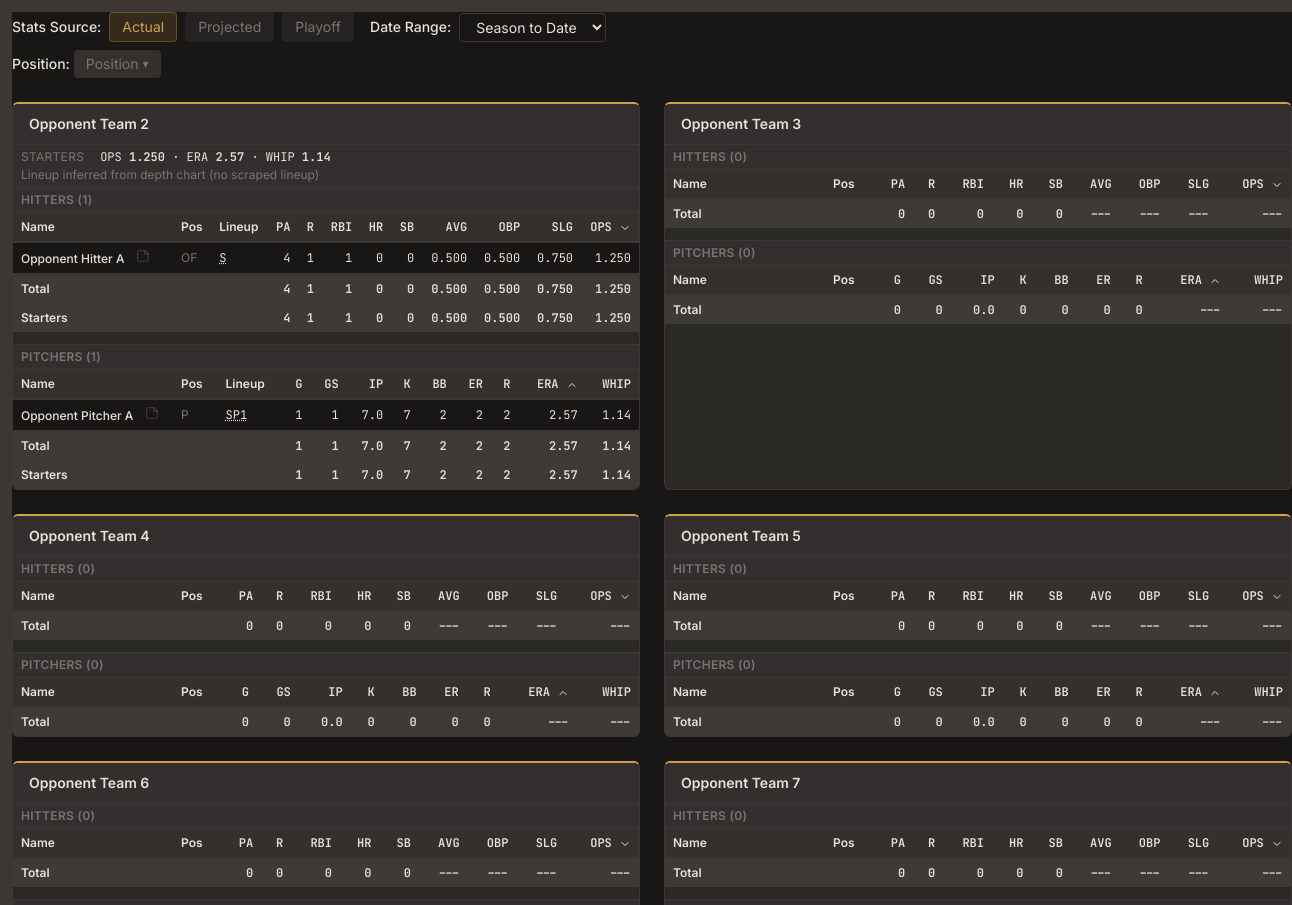
Test: OpponentsGrid › hides date range and shows projection source dropdown when Projected is selected
The image size is (1292, 905).
Check: the dropdown showing "Season to Date" is shown, box [459,12,606,42]
Click the button "Projected" at (230, 27), box [185,12,274,42]
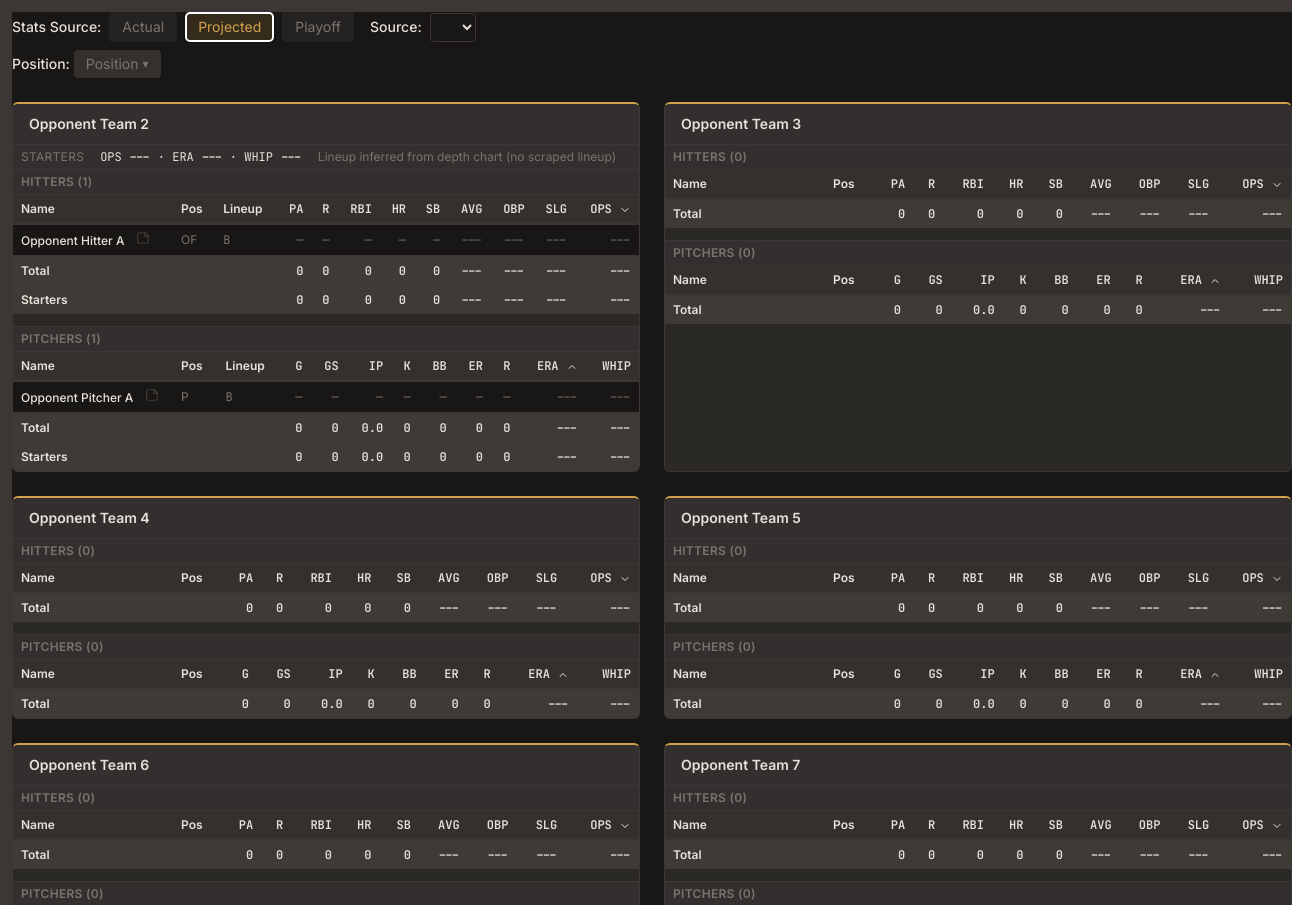
Check: the text "Source:" is shown, box [370,17,422,37]
